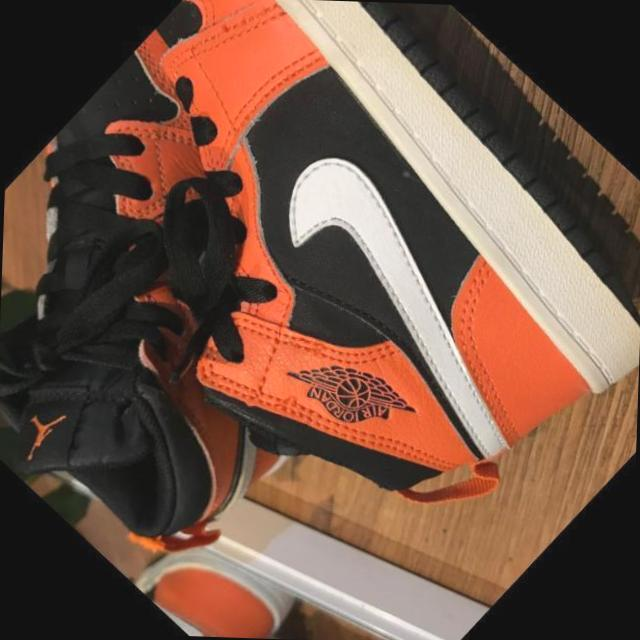nike_fake_jordan: (0, 0, 640, 609), (0, 65, 412, 602)
